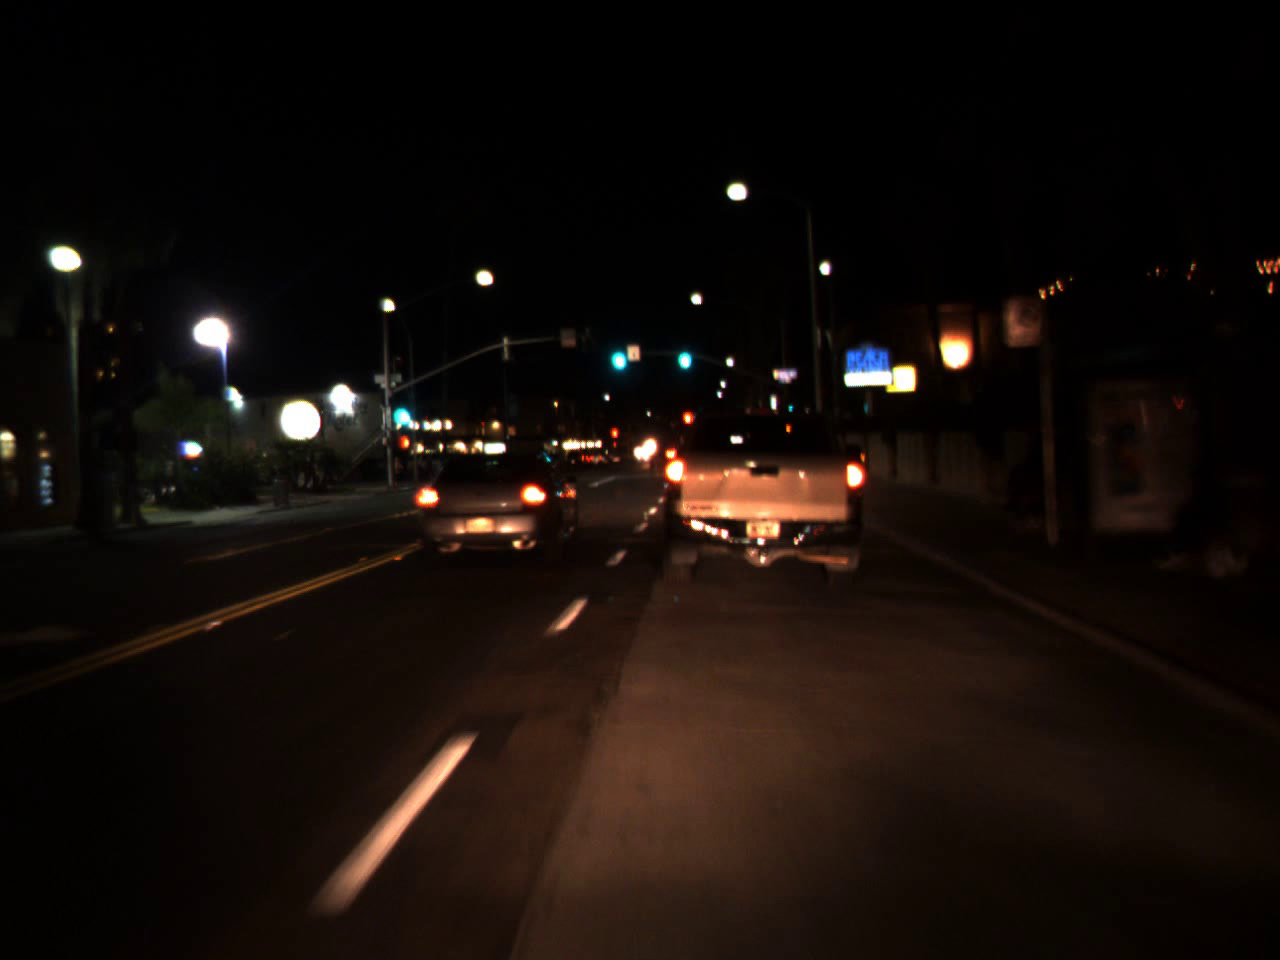go: (605, 329, 630, 377), (386, 389, 413, 428), (673, 330, 694, 375)
